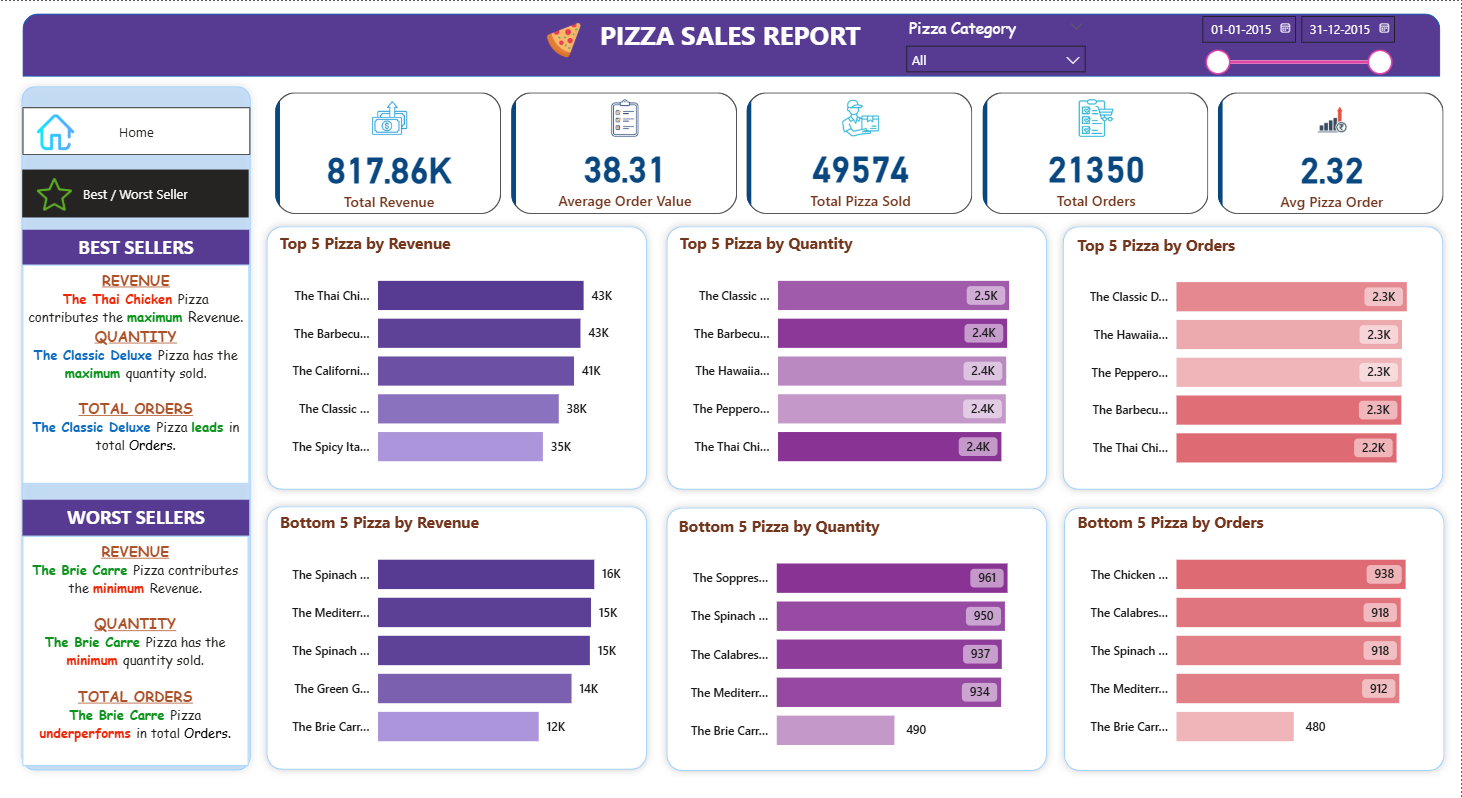

What the dashboard file says about the page in this screenshot:
{"tool":"powerbi","page":{"name":"Best / Worst Seller","canvas":[1500,820],"ordinal":1},"visuals":[{"type":"shape","box":[14.1,79.1,251.3,718.6],"z":0},{"type":"cardVisual","fields":{"Data":["pizza_sales.Total Revenue","pizza_sales.Average Order Value","pizza_sales.Total Pizza Sold","pizza_sales.Total Orders","pizza_sales.Avg Pizza Order"]},"box":[265.4,77.6,1235.3,159.5],"z":1000},{"type":"shape","box":[22.6,12.7,1456,64.9],"z":2000},{"type":"textbox","box":[610.4,11.8,280.7,47.3],"z":3000},{"type":"image","box":[548.3,21.7,61.7,36.7],"z":5000},{"type":"shape","box":[265.4,223.1,406.6,286.6],"z":6000},{"type":"textbox","box":[22.6,512.5,232.9,36.7],"z":7000},{"type":"textbox","box":[22.6,549.2,232,236],"z":8000},{"type":"textbox","box":[22.6,234.4,232.9,36.7],"z":9000},{"type":"textbox","box":[22.6,271.1,232.9,224.5],"z":10000},{"type":"slicer","title":"Pizza Category","fields":{"Values":["pizza_sales.pizza_category"]},"box":[920.6,12,204,65.1],"z":11000},{"type":"slicer","title":"Pizza Category","fields":{"Values":["pizza_sales.order_date"]},"box":[1222.6,5.6,216,84.7],"z":12000},{"type":"shape","box":[1082.8,223.1,406.6,286.6],"z":13000},{"type":"shape","box":[676.2,223.1,406.6,286.6],"z":14000},{"type":"shape","box":[1084.2,512.5,406.6,286.6],"z":15000},{"type":"shape","box":[265.4,511.1,406.6,286.6],"z":16000},{"type":"shape","box":[676.2,512.5,406.6,286.6],"z":17000},{"type":"barChart","title":"Top 5 Pizza by Revenue","fields":{"Category":["pizza_sales.pizza_name"],"Y":["pizza_sales.Total Revenue"]},"box":[282.4,237.2,372.7,256.9],"z":18000},{"type":"barChart","title":"Bottom 5 Pizza by Revenue","fields":{"Category":["pizza_sales.pizza_name"],"Y":["pizza_sales.Total Revenue"]},"box":[282.4,523.8,372.7,258.4],"z":19000},{"type":"barChart","title":"Top 5 Pizza by Quantity","fields":{"Category":["pizza_sales.pizza_name"],"Y":["pizza_sales.Total Pizza Sold"]},"box":[693.2,237.2,372.7,256.9],"z":20000},{"type":"barChart","title":"Bottom 5 Pizza by Quantity","fields":{"Category":["pizza_sales.pizza_name"],"Y":["pizza_sales.Total Pizza Sold"]},"box":[691.8,528,372.7,258.4],"z":21000},{"type":"barChart","title":"Top 5 Pizza by Orders","fields":{"Category":["pizza_sales.pizza_name"],"Y":["pizza_sales.Total Orders"]},"box":[1101.2,238.6,374.1,256.9],"z":22000},{"type":"barChart","title":"Bottom 5 Pizza by Orders","fields":{"Category":["pizza_sales.pizza_name"],"Y":["pizza_sales.Total Orders"]},"box":[1101.2,523.8,374.1,258.4],"z":23000},{"type":"pageNavigator","box":[22.6,173.6,232.9,49.4],"z":24000},{"type":"pageNavigator","box":[22.6,108.7,234.4,49.4],"z":25000},{"type":"image","box":[35.3,115.8,45.2,38.1],"z":26000},{"type":"image","box":[35.3,180.7,42.4,35.3],"z":27000}]}

Visuals, with their boxes in screenshot pixels (x1, y1, x2, y2), scaled from the page's 1500x820 canvas onto the 1462x798 screenshot:
shape: bbox=(14, 77, 259, 776)
cardVisual - pizza_sales.Total Revenue x pizza_sales.Average Order Value: bbox=(259, 76, 1461, 231)
shape: bbox=(22, 12, 1441, 76)
textbox: bbox=(595, 11, 869, 58)
image: bbox=(534, 21, 595, 57)
shape: bbox=(259, 217, 655, 496)
textbox: bbox=(22, 499, 249, 534)
textbox: bbox=(22, 534, 248, 764)
textbox: bbox=(22, 228, 249, 264)
textbox: bbox=(22, 264, 249, 482)
"Pizza Category" slicer: bbox=(897, 12, 1096, 75)
"Pizza Category" slicer: bbox=(1192, 5, 1402, 88)
shape: bbox=(1055, 217, 1452, 496)
shape: bbox=(659, 217, 1055, 496)
shape: bbox=(1057, 499, 1453, 778)
shape: bbox=(259, 497, 655, 776)
shape: bbox=(659, 499, 1055, 778)
"Top 5 Pizza by Revenue" barChart: bbox=(275, 231, 639, 481)
"Bottom 5 Pizza by Revenue" barChart: bbox=(275, 510, 639, 761)
"Top 5 Pizza by Quantity" barChart: bbox=(676, 231, 1039, 481)
"Bottom 5 Pizza by Quantity" barChart: bbox=(674, 514, 1038, 765)
"Top 5 Pizza by Orders" barChart: bbox=(1073, 232, 1438, 482)
"Bottom 5 Pizza by Orders" barChart: bbox=(1073, 510, 1438, 761)
pageNavigator: bbox=(22, 169, 249, 217)
pageNavigator: bbox=(22, 106, 250, 154)
image: bbox=(34, 113, 78, 150)
image: bbox=(34, 176, 76, 210)
